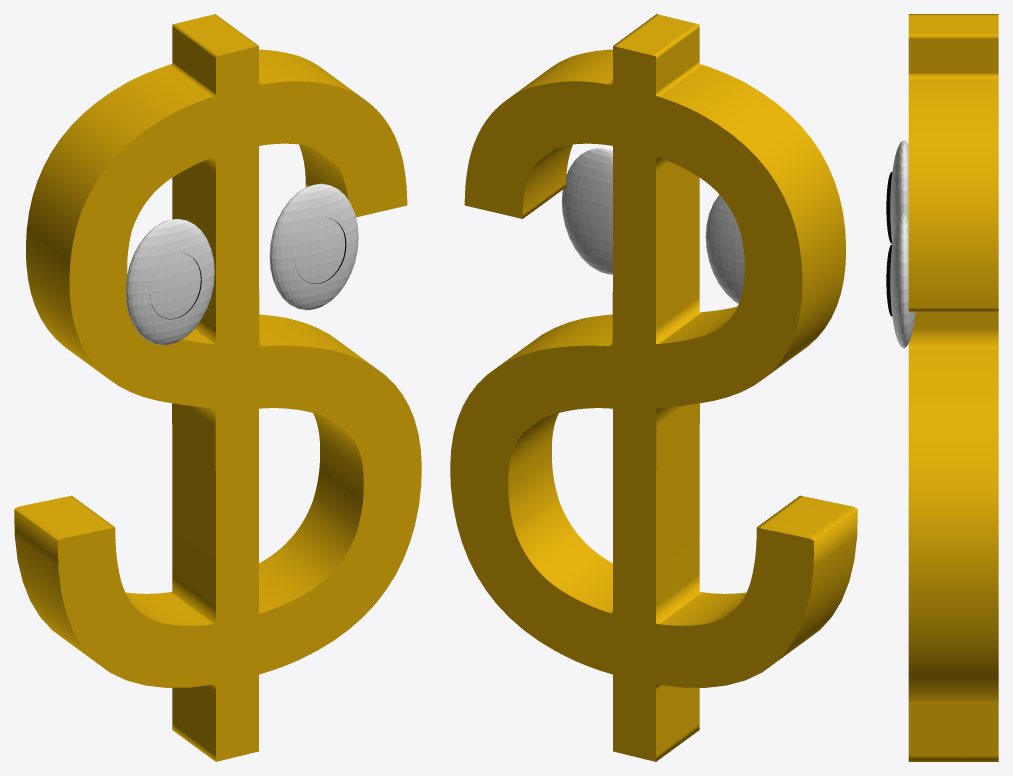
The model's file is 1.dollar.1.fbx.
The picture shows the model from 3 angles, left to right: view 1: azimuth 30°, elevation 25°; view 2: azimuth 150°, elevation 25°; view 3: azimuth 270°, elevation 25°; orthographic projection. The views are drawn at different scales.
Visible parts, largest first — view 1: Curve, Sphere; view 2: Curve, Sphere; view 3: Curve, Sphere.
Part boxes in pixels (left/top/right/bottom): Curve: left=14, top=14, right=421, bottom=761; Sphere: left=125, top=183, right=358, bottom=345; Curve: left=450, top=14, right=857, bottom=761; Sphere: left=561, top=148, right=744, bottom=303; Curve: left=908, top=14, right=998, bottom=761; Sphere: left=886, top=140, right=915, bottom=347.
Size of the model in its own units: 146 by 271 by 37.99.
